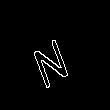N_NW: (33, 23, 77, 87)
